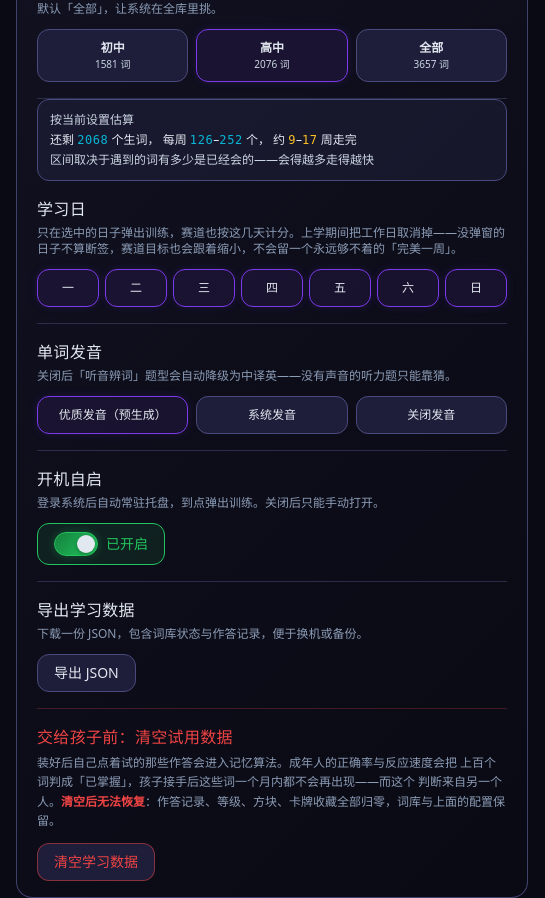
Test: 设置面板 › 清空学习数据 › 第一次点击只进入确认态，不动数据
(page scrolled)
Click the button "清空学习数据".
click(96, 862)  # box x1=37 y1=843 x2=155 y2=881
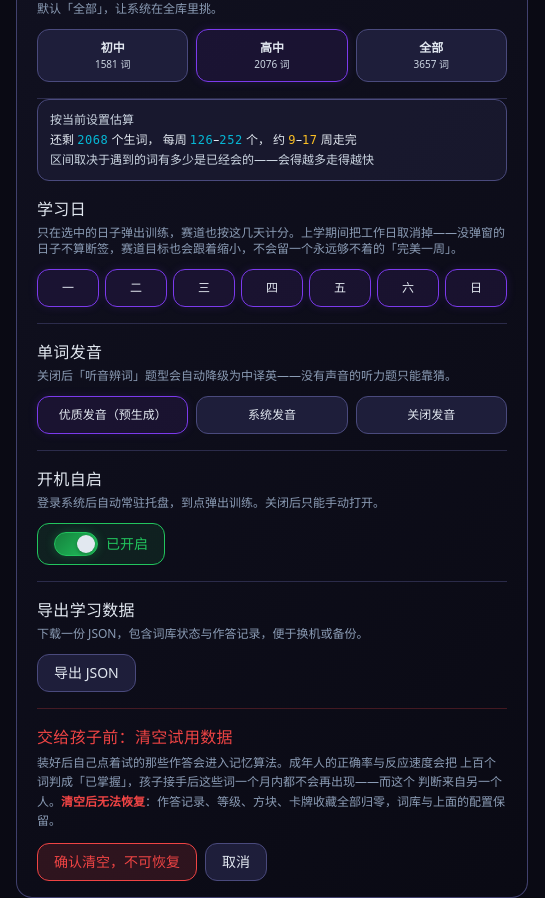
Now the text "确认清空" is shown, box x1=37 y1=843 x2=197 y2=881
